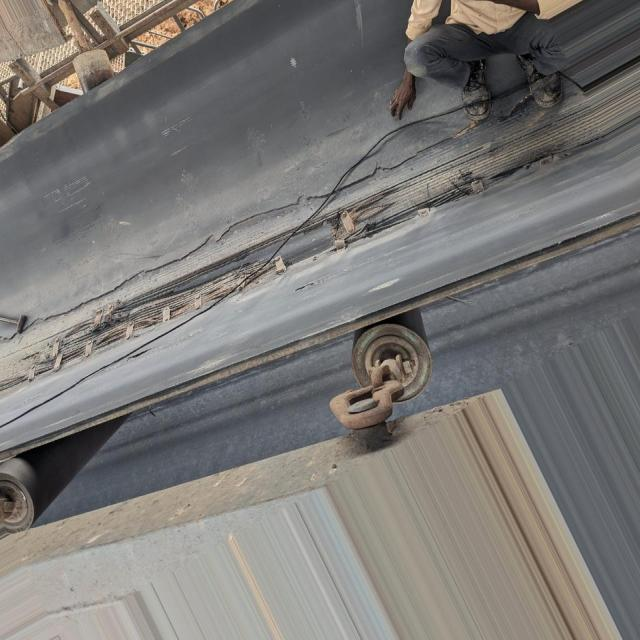Human: (392, 0, 578, 123)
Other Objects: (1, 298, 35, 337)
Roller: (0, 423, 122, 530), (349, 308, 432, 400), (70, 48, 120, 98)
Tear: (0, 147, 520, 393)
